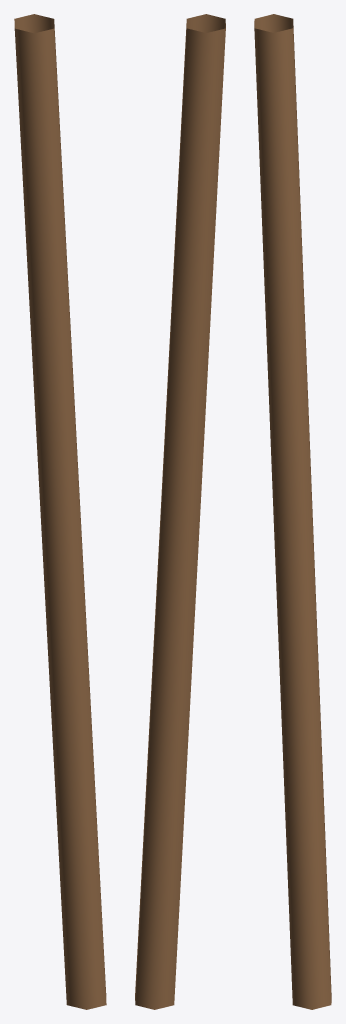
The model's file is root_splitter_2.glb.
3 renders of one model, left to right at view 1: azimuth 30°, elevation 25°; view 2: azimuth 210°, elevation 25°; view 3: azimuth 330°, elevation 25°, orthographic. The views are drawn at different scales.
Parts seen in each view (by area): view 1: root_splitter_2; view 2: root_splitter_2; view 3: root_splitter_2.
Boxes of the visible parts, x1,y1,x2,y2 form: root_splitter_2: (14,14,106,1009); root_splitter_2: (135,14,225,1009); root_splitter_2: (254,14,331,1009).
Bounding box in the file's own units: 0.0472 × 0.5208 × 0.0254.
